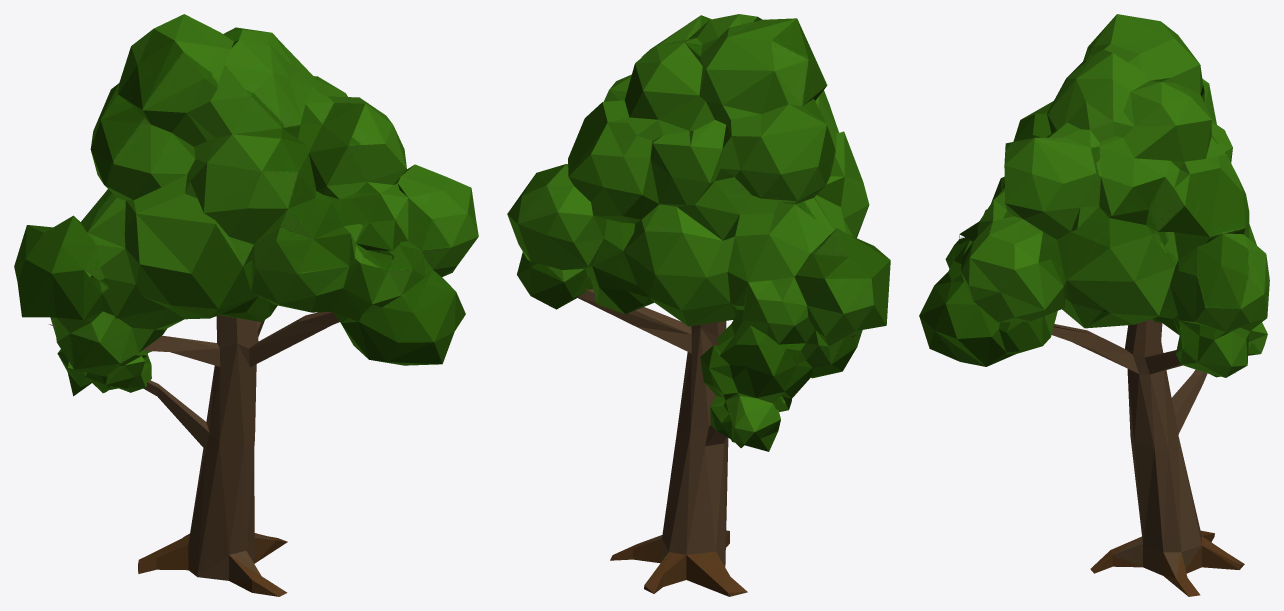
The model's file is tree6-transformed.glb.
The picture shows the model from 3 angles, left to right: view 1: azimuth 30°, elevation 25°; view 2: azimuth 150°, elevation 25°; view 3: azimuth 270°, elevation 25°; orthographic projection. The views are drawn at different scales.
Parts seen in each view (by area): view 1: _6_tree__6_tree_0; view 2: _6_tree__6_tree_0; view 3: _6_tree__6_tree_0.
Part boxes in pixels (box(x1,y1,x2,y2)): _6_tree__6_tree_0: box(14, 14, 478, 596); _6_tree__6_tree_0: box(507, 14, 890, 596); _6_tree__6_tree_0: box(919, 14, 1269, 596).
Size of the model in its own units: 1.74 by 2.6 by 1.6.
Materials: 1 (1 with a texture image).
